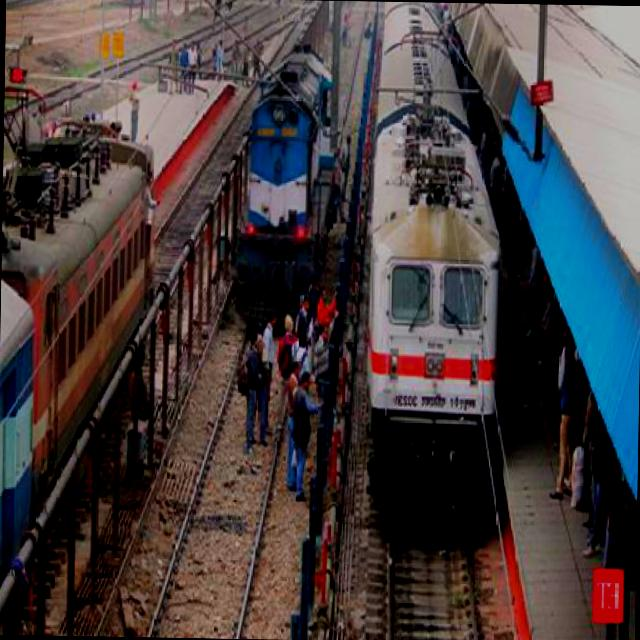Person: (287, 369, 314, 495), (256, 306, 277, 446), (238, 326, 263, 443)
